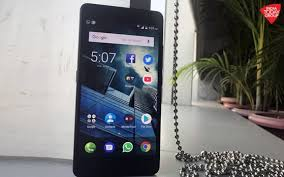lenovo: (67, 1, 165, 177)
